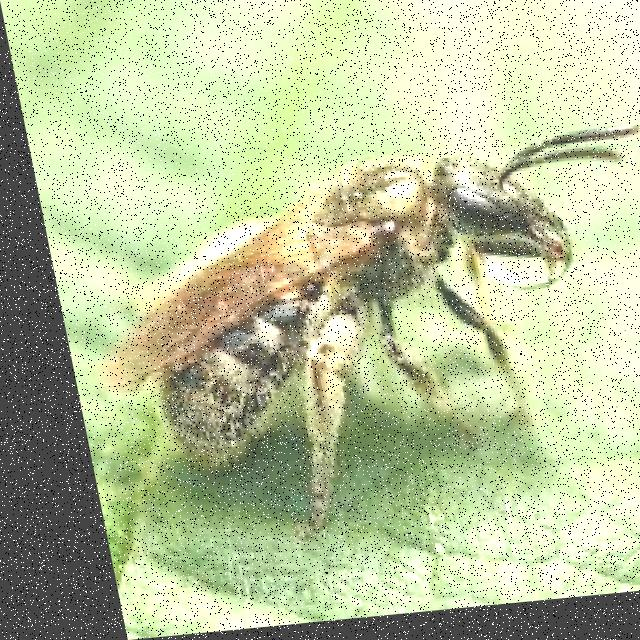Lasioglossum: (73, 104, 640, 536)
